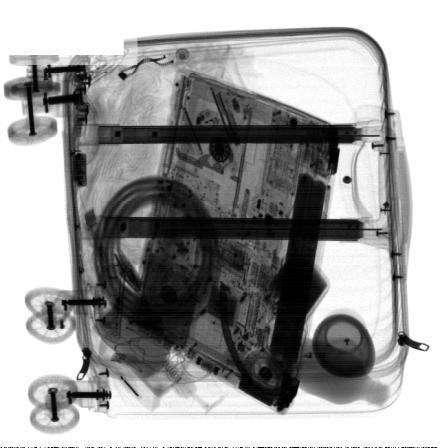Powerbank: (260, 249, 330, 334)
